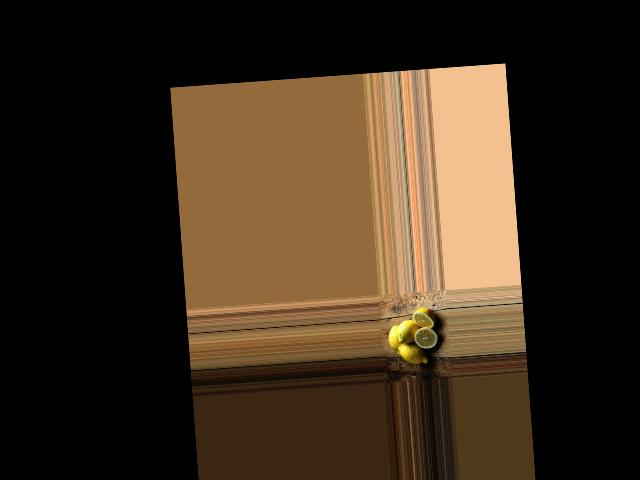lemon: (396, 340, 430, 368)
